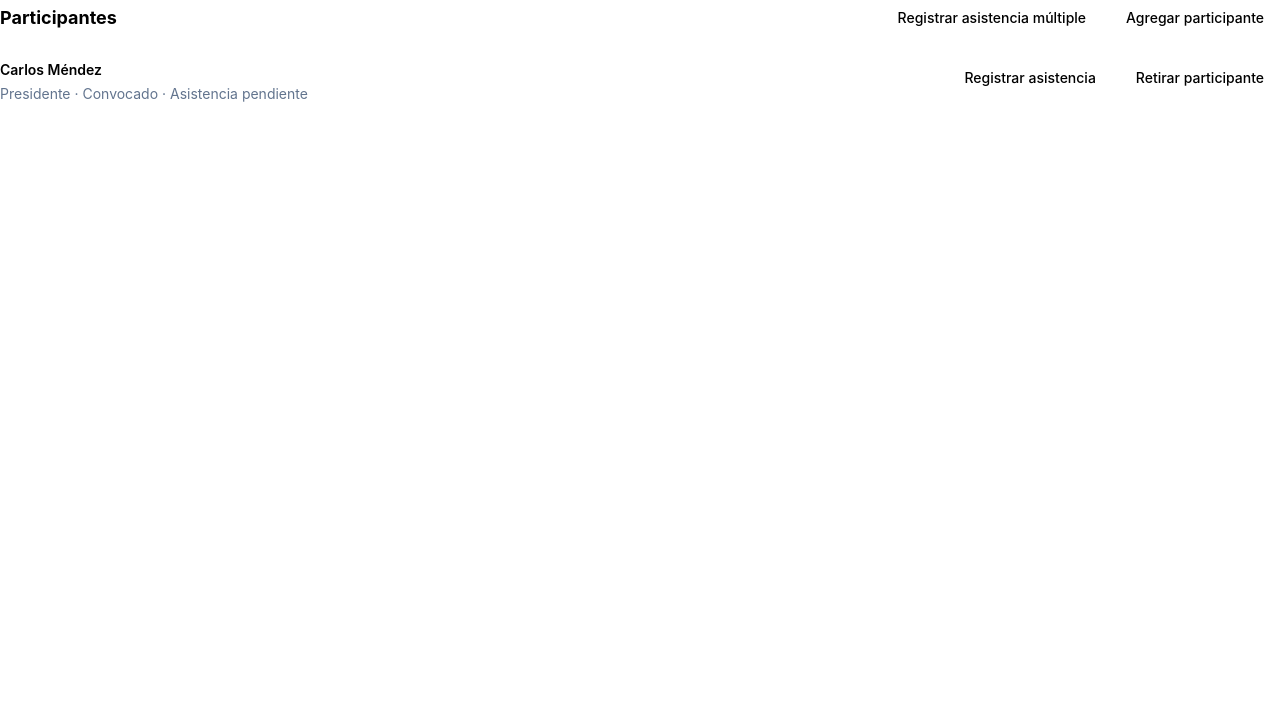
it: DefenseParticipants US-020 › deshabilita otra asignación de una persona ya incorporada en Defensa Pública de Tesis
The width and height of the screenshot is (1280, 720).
Click the button "Agregar participante" at [1195, 18], box [1110,0,1279,36]
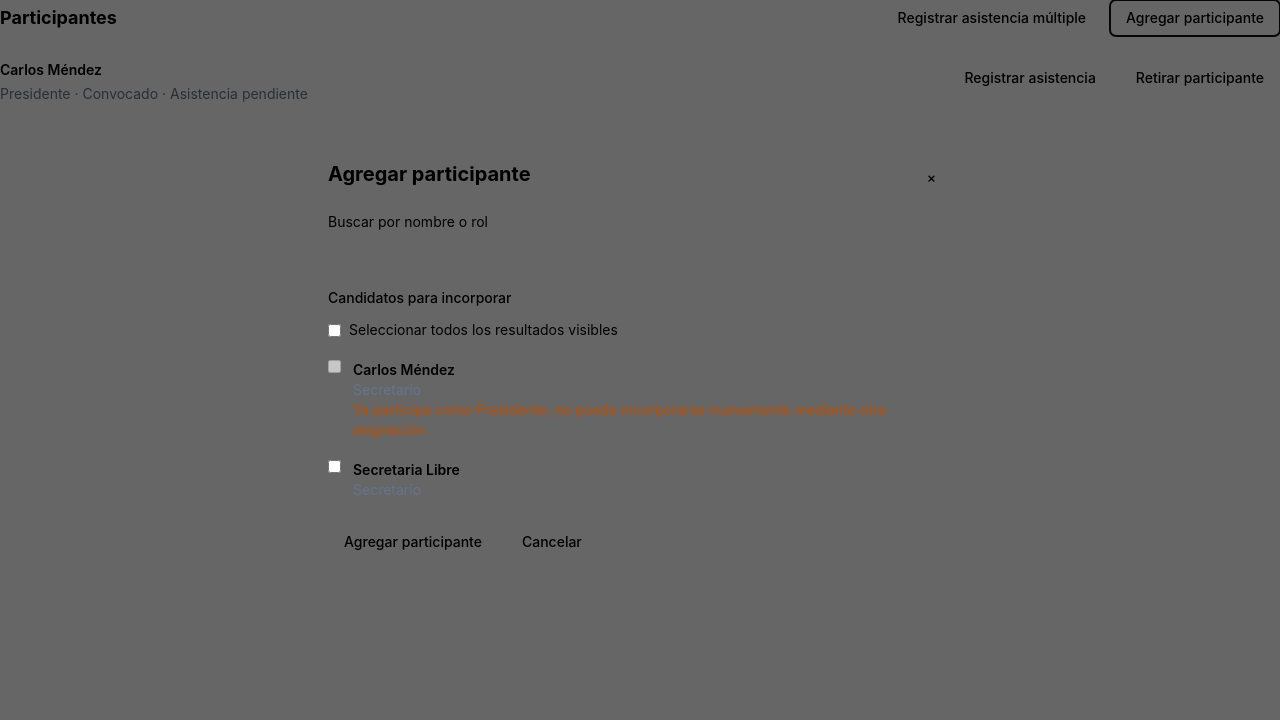
Check: the checkbox named "Carlos Méndez — Secretario" is disabled, box [328,360,341,373]
Check: the text "Ya participa como Presidente" is shown, box [353,401,547,418]
Check: the checkbox named "Secretaria Libre — Secretario" is enabled, box [328,460,341,473]
